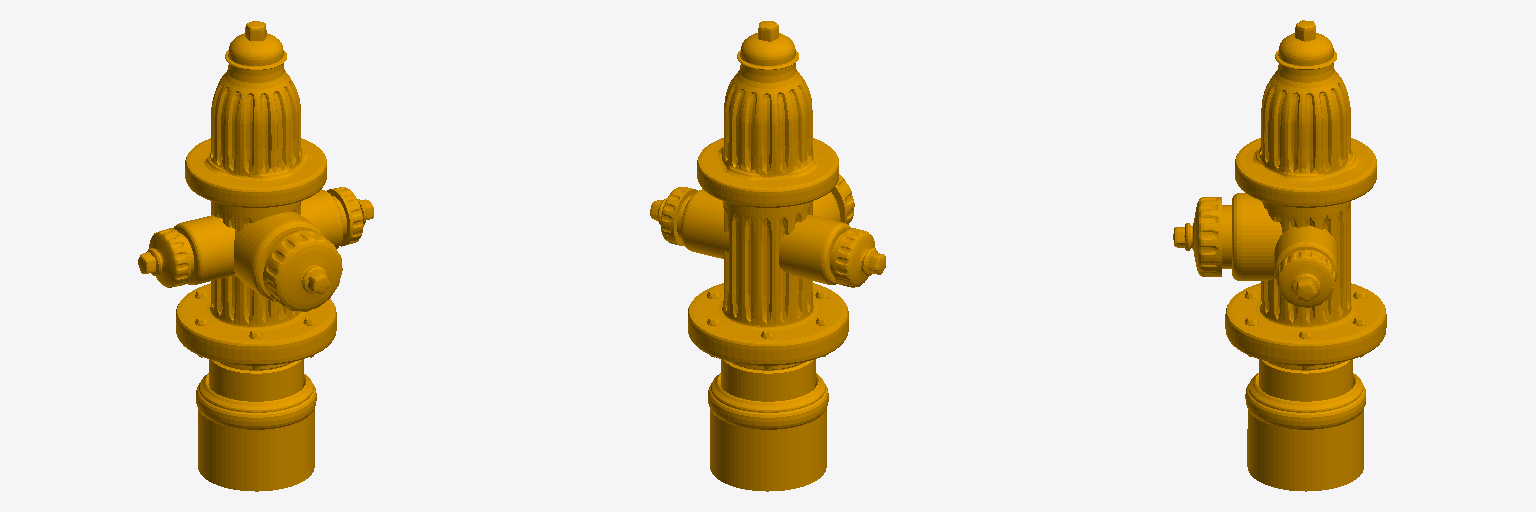
URDF robot description (none):
<robot name="none">
       <link name="none">
           <visual>
               <origin rpy="1.57 0 0" xyz="0 0 0" />
               <geometry>
                   <mesh filename="fire-hydrant.obj" />
               </geometry>
           </visual>
          <collision>
              <geometry>
                  <box size="0.542012 1.000000 0.435854" />
              </geometry>
          </collision>

          <inertial>
            <mass value="0.0" />
            <inertia ixx="0.0" ixy="0.0" ixz="0.0" iyy="0.0" iyz="0.0" izz="0.0" />
          </inertial>
      </link>
  </robot>

--- What the picture shows (computed from the rendered views, not written in the file) ---
Views: 3 orthographic renders of the robot side by side, from view 1: azimuth 30°, elevation 25°; view 2: azimuth 150°, elevation 25°; view 3: azimuth 270°, elevation 25°.
Robot: none — 1 links, 0 joints (none); root link none; default pose: every joint at zero.
Visible links, largest first — view 1: none; view 2: none; view 3: none.
Link boxes in pixels (bbox=[...]): none: bbox=[138, 21, 373, 491]; none: bbox=[650, 21, 885, 491]; none: bbox=[1173, 20, 1386, 491].
Bounding box of the posed robot: 0.542 × 0.4357 × 1 m (x, y, z).
Meshes: 1 distinct files referenced, 1 mesh visuals loaded (1 OBJ).